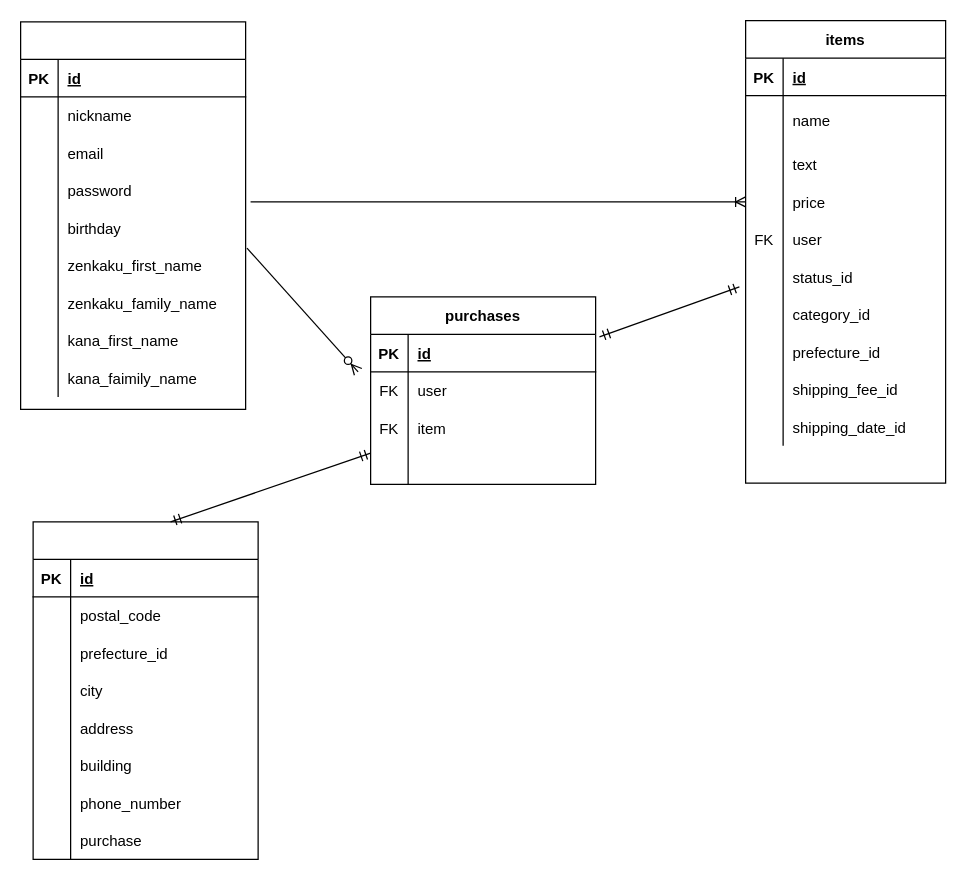
This 966x880 diagram has some shape labels left out. Each missing label, with the box of its shape:
shipments: (32, 521, 258, 859)
users: (19, 21, 246, 409)
